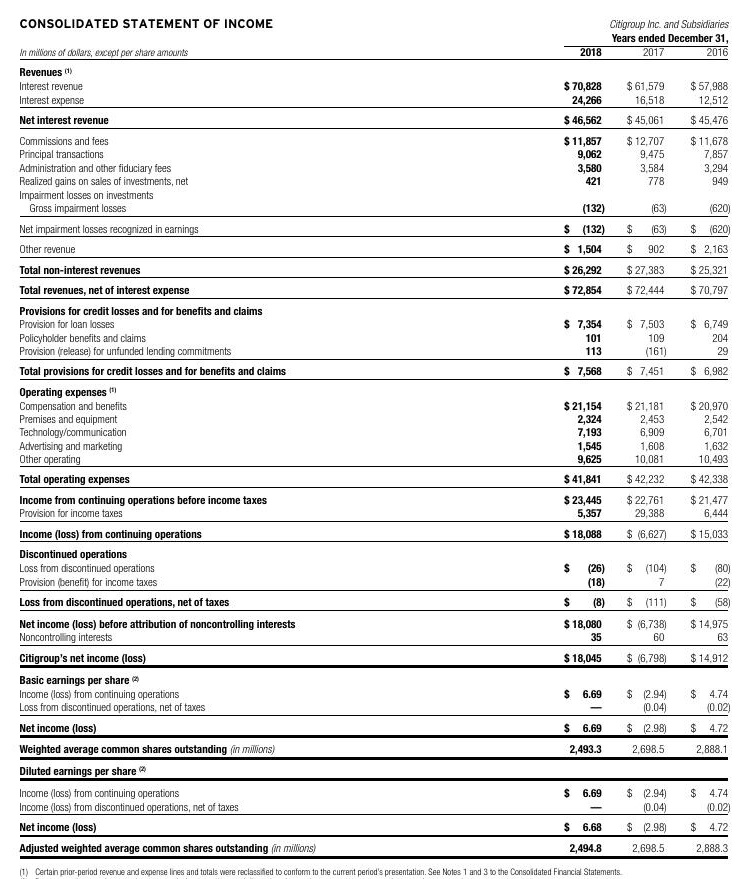table: (0, 0, 754, 879)
